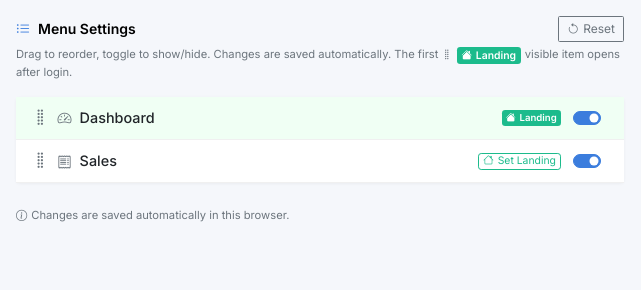
Test: SidebarSettings save error visibility › Reset clears sync error
Click the switch named "Hide from sidebar" in the row of "Dashboard". click: (587, 118)
box: [573,111,601,125]
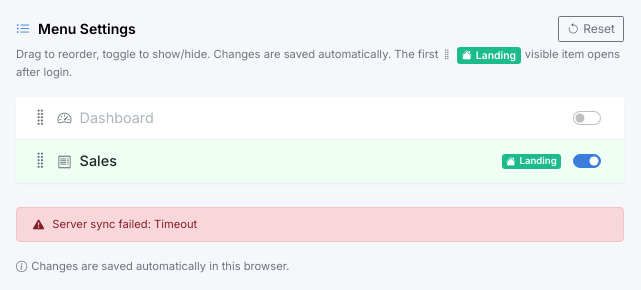
Check: the text "Server sync failed: Timeout" is shown, box [16,208,624,242]
Click the button "Reset". click: (591, 29)
box: [558,16,624,42]
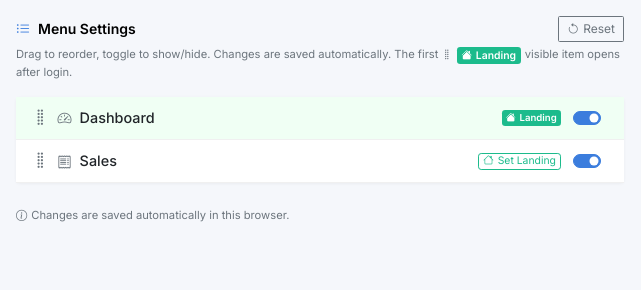
Check: the text "Server sync failed" is gone
